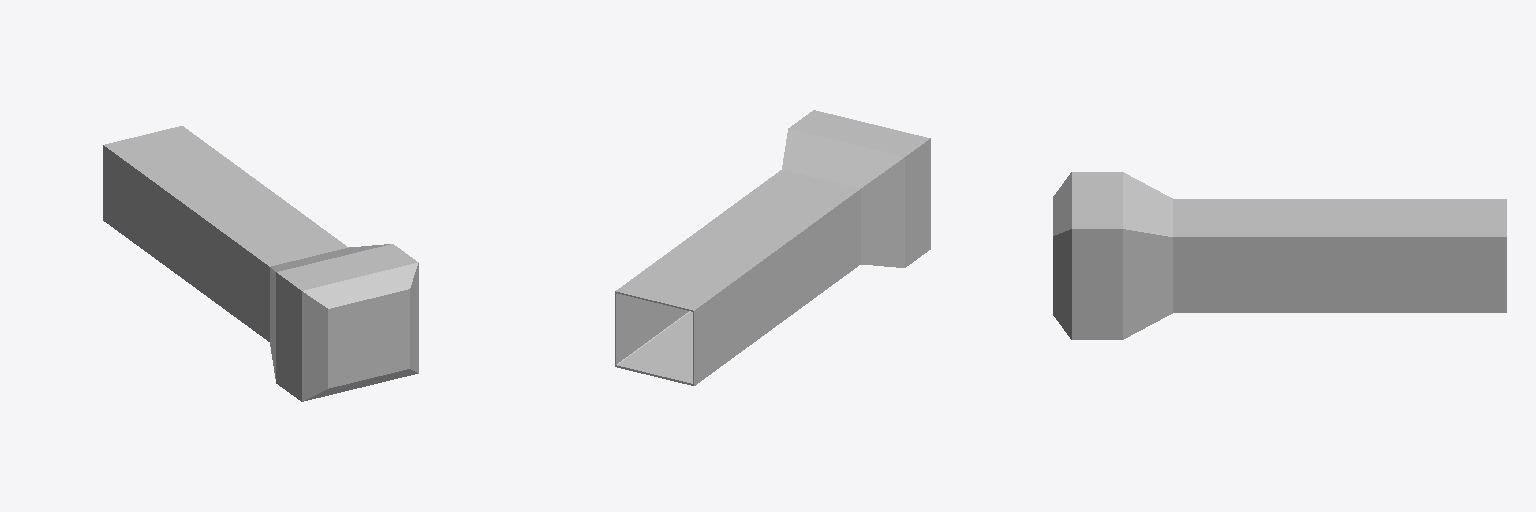
File: tower.obj
The picture shows the model from 3 angles: view 1: azimuth 30°, elevation 25°; view 2: azimuth 150°, elevation 25°; view 3: azimuth 270°, elevation 25°; orthographic projection.
Visible parts, largest first — view 1: obj_0; view 2: obj_0; view 3: obj_0.
Part boxes in pixels (x1,y1,x2,y2): obj_0: (103,126,418,401); obj_0: (615,110,930,385); obj_0: (1053,172,1506,339).
Size of the model in its own units: 86.33 by 78.51 by 290.